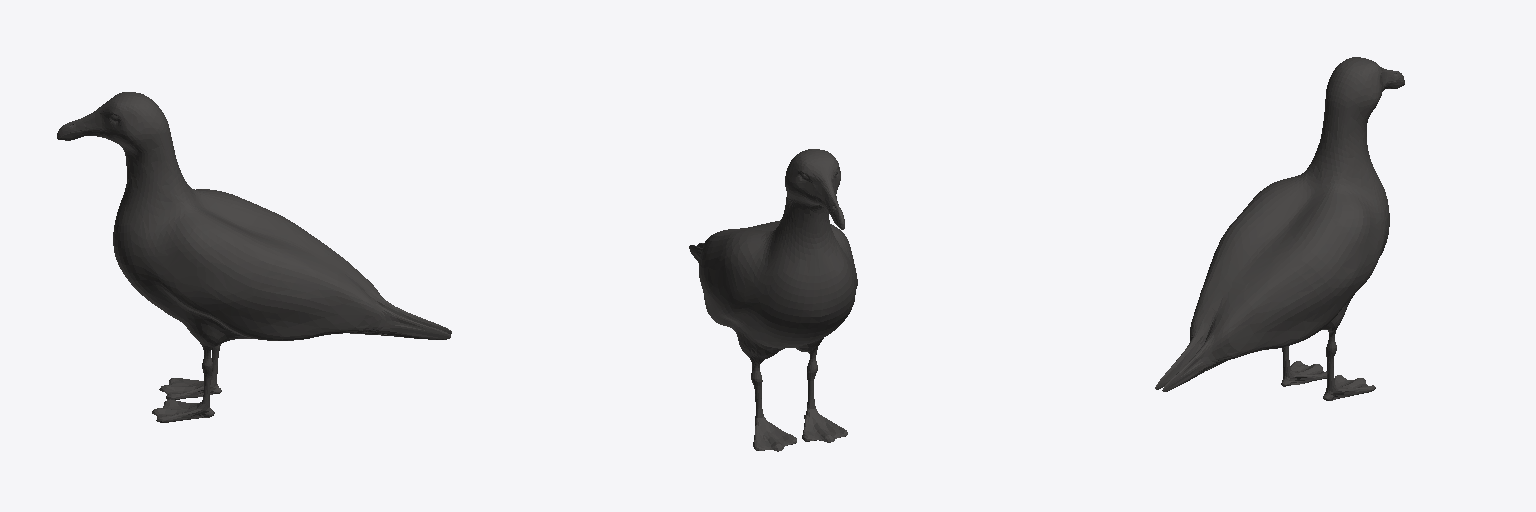
The model's file is bird.obj.
The picture shows the model from 3 angles: view 1: azimuth 30°, elevation 25°; view 2: azimuth 150°, elevation 25°; view 3: azimuth 270°, elevation 25°; orthographic projection.
Visible parts, largest first — view 1: Mesh1 G_3DGeom_1 G_014_Vray Model; view 2: Mesh1 G_3DGeom_1 G_014_Vray Model; view 3: Mesh1 G_3DGeom_1 G_014_Vray Model.
Boxes of the visible parts, x1,y1,x2,y2 form: Mesh1 G_3DGeom_1 G_014_Vray Model: [57, 92, 451, 422]; Mesh1 G_3DGeom_1 G_014_Vray Model: [689, 149, 857, 451]; Mesh1 G_3DGeom_1 G_014_Vray Model: [1155, 57, 1404, 400].
Size of the model in its own units: 503 by 533 by 395.